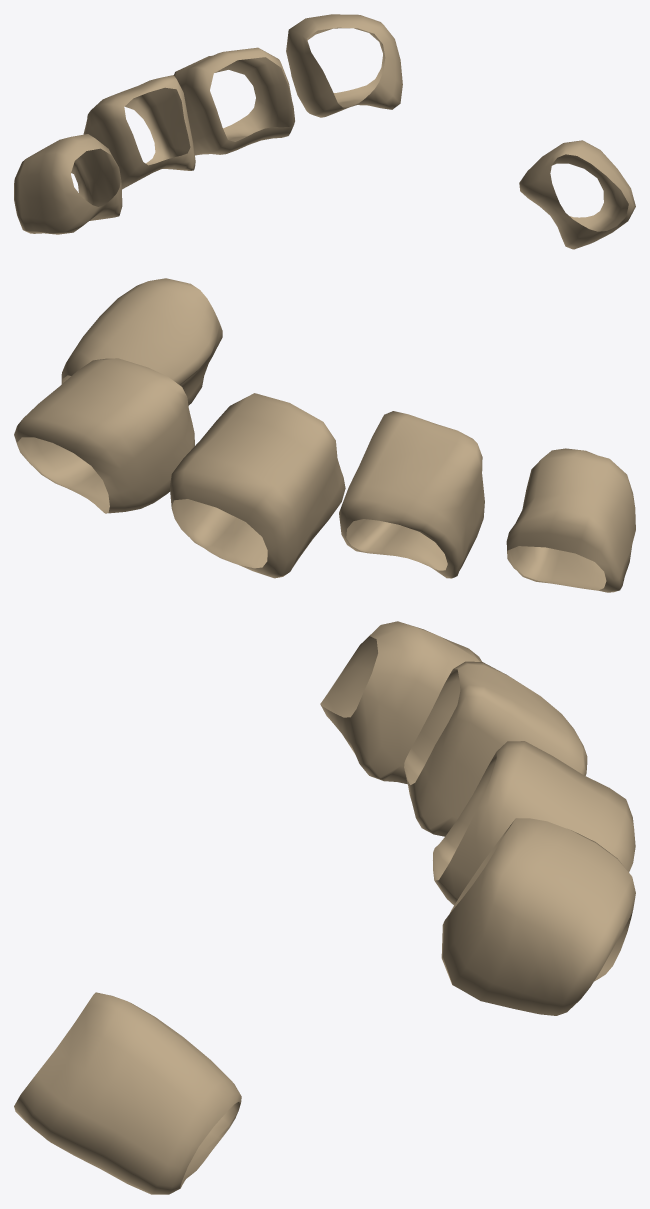
The picture shows the model from 3 angles, top to bottom: view 1: azimuth 30°, elevation 25°; view 2: azimuth 150°, elevation 25°; view 3: azimuth 270°, elevation 25°; orthographic projection. The views are drawn at different scales.
Parts seen in each view (by area): view 1: 左侧掌指关节囊; view 2: 左侧掌指关节囊; view 3: 左侧掌指关节囊.
Part boxes in pixels (x1=…): 左侧掌指关节囊: x1=14, y1=14, x2=635, y2=249; 左侧掌指关节囊: x1=14, y1=278, x2=635, y2=592; 左侧掌指关节囊: x1=14, y1=621, x2=635, y2=1194.
Size of the model in its own units: 0.1362 by 0.0422 by 0.0905.
